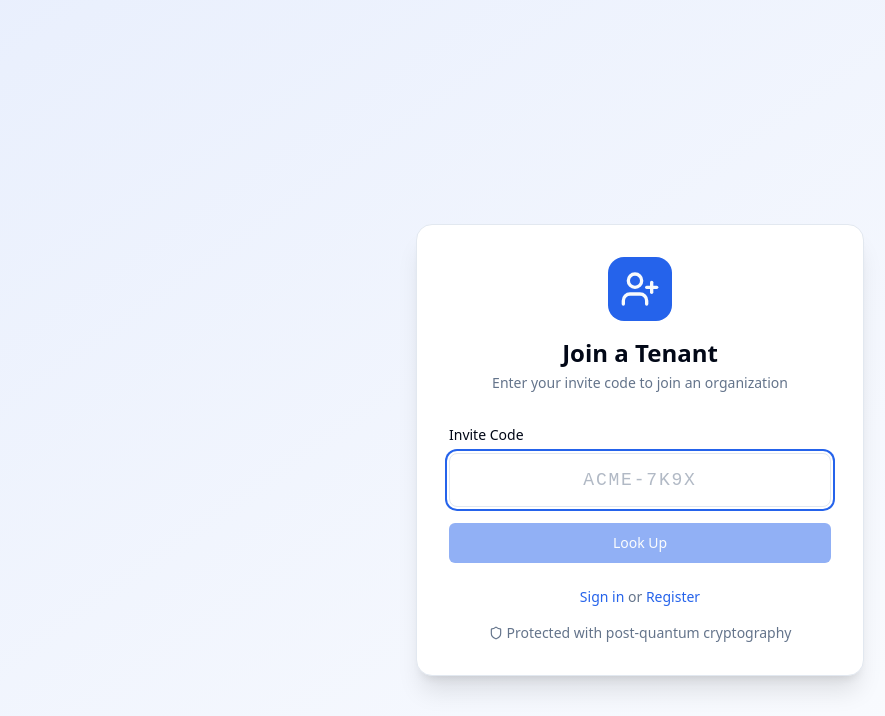
JoinTenantPage › should strip non-alphanumeric characters except hyphens from input
Type "acme!@#$%^&*()-7k9x" into the field with placeholder "ACME-7K9X".
click(640, 480); type("acme!@#$%^&*()-7k9x")  # box [449,453,831,507]
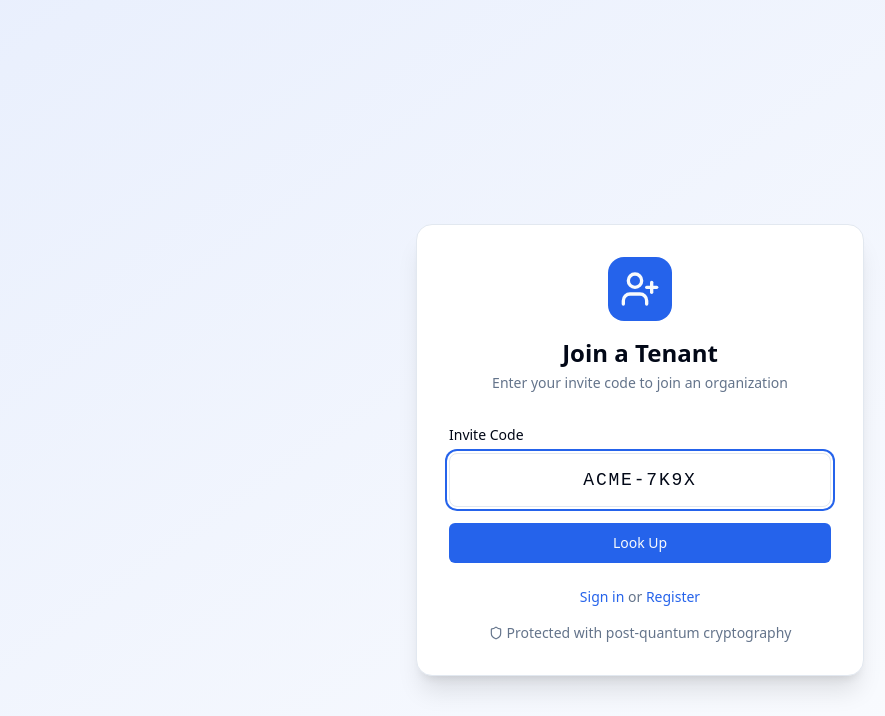
Now the field with placeholder "ACME-7K9X" holds "ACME-7K9X", box [449,453,831,507]
